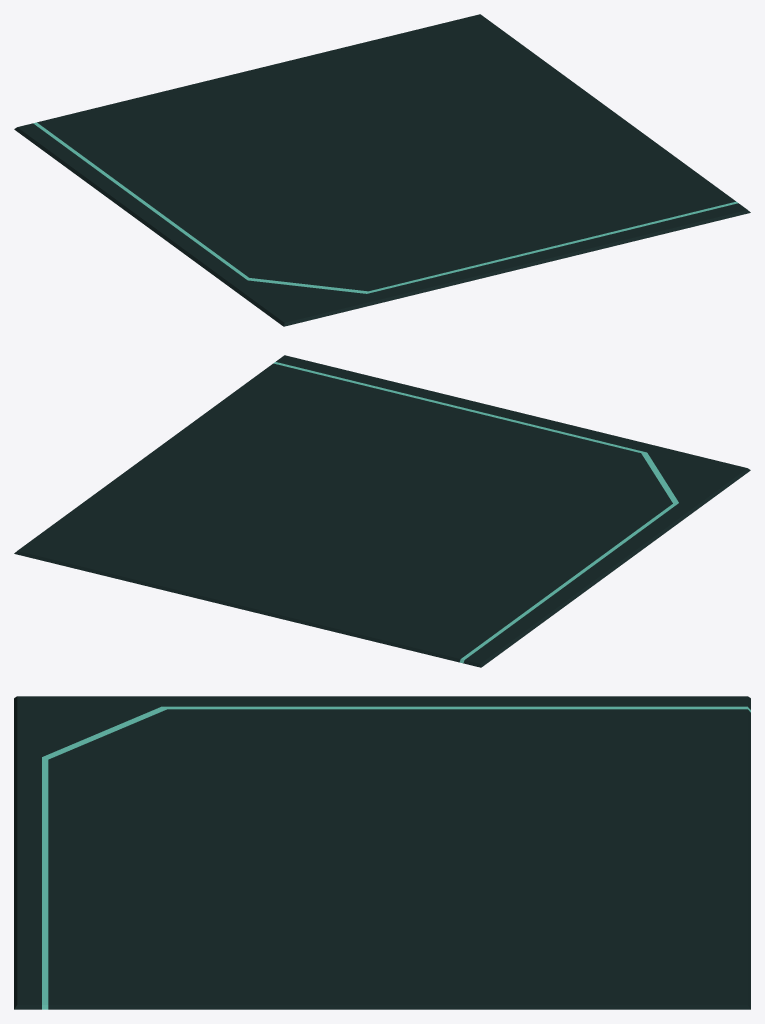
File: Ground_Tron_Var04.fbx
3 renders of one model, top to bottom at view 1: azimuth 30°, elevation 25°; view 2: azimuth 150°, elevation 25°; view 3: azimuth 270°, elevation 25°, orthographic. The views are drawn at different scales.
Parts seen in each view (by area): view 1: Ground_Tron_Var04; view 2: Ground_Tron_Var04; view 3: Ground_Tron_Var04.
Boxes of the visible parts, x1,y1,x2,y2 form: Ground_Tron_Var04: [14, 14, 750, 326]; Ground_Tron_Var04: [14, 355, 750, 667]; Ground_Tron_Var04: [14, 696, 750, 1009].
Size of the model in its own units: 600 by 3.14 by 600.
